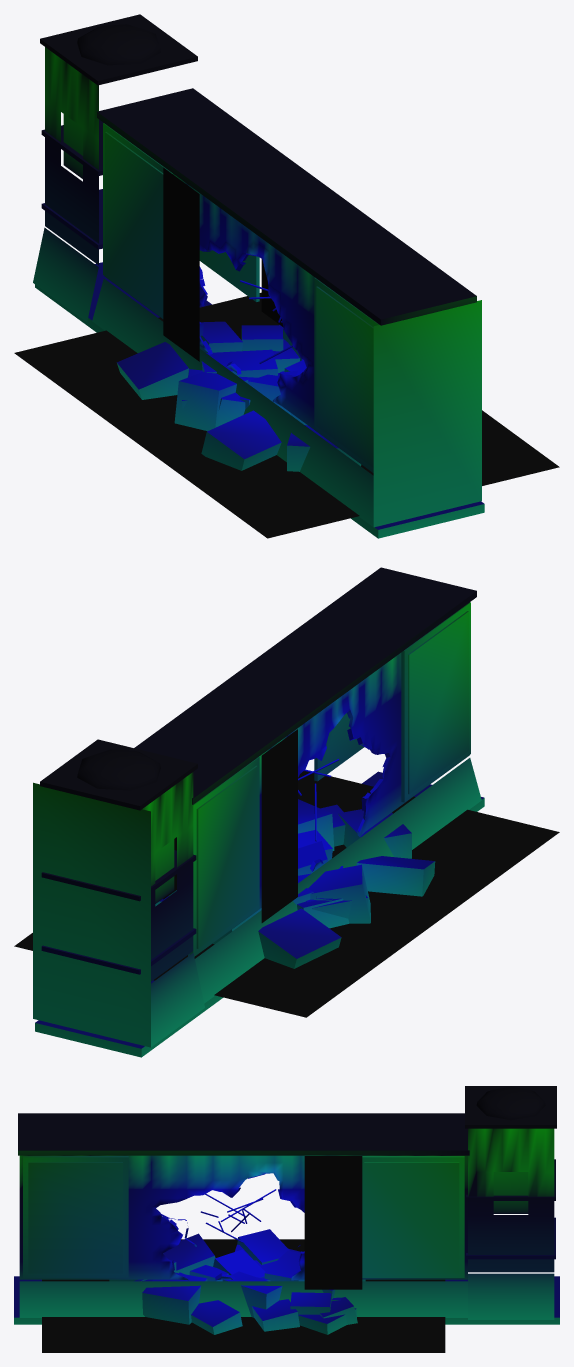
Rendered from s_mediumwall_damaged.glb.
3 views of the same model, one above another, from view 1: azimuth 30°, elevation 25°; view 2: azimuth 150°, elevation 25°; view 3: azimuth 270°, elevation 25° (orthographic). The views are drawn at different scales.
Visible parts, largest first — view 1: lod0; view 2: lod0; view 3: lod0.
Part boxes in pixels (x1,y1,x2,y2): lod0: (14,14,559,538); lod0: (14,567,559,1057); lod0: (14,1086,559,1352).
Size of what is drawn, in the model's own units: 14 by 12.2 by 28.45.
